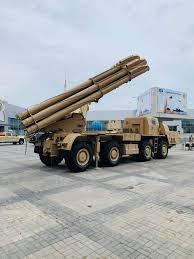MIL_SAM_TEL: (15, 51, 177, 171)
